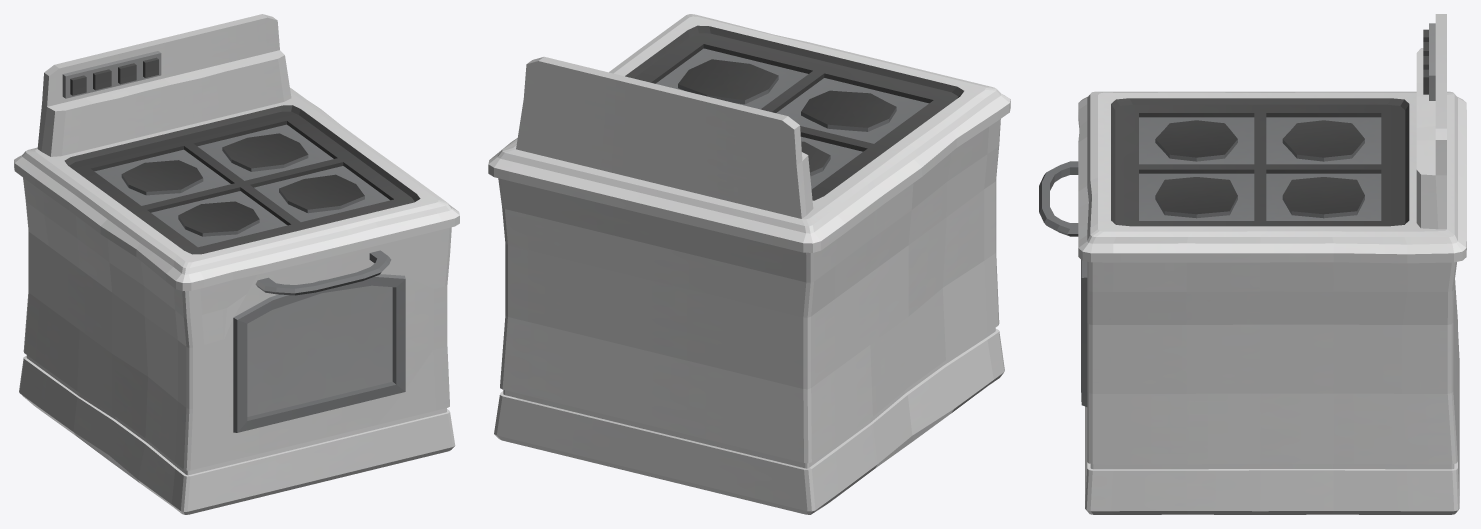
The model's file is oven_1.glb.
The picture shows the model from 3 angles, left to right: view 1: azimuth 30°, elevation 25°; view 2: azimuth 150°, elevation 25°; view 3: azimuth 270°, elevation 25°; orthographic projection. The views are drawn at different scales.
Visible parts, largest first — view 1: oven_1; view 2: oven_1; view 3: oven_1.
Boxes of the visible parts, left/top/right/bottom form: oven_1: left=14, top=14, right=459, bottom=514; oven_1: left=488, top=14, right=1010, bottom=514; oven_1: left=1039, top=14, right=1466, bottom=514.
Bounding box in the file's own units: 0.9832 × 1.08 × 1.13.
Materials: 1 (1 with a texture image).
